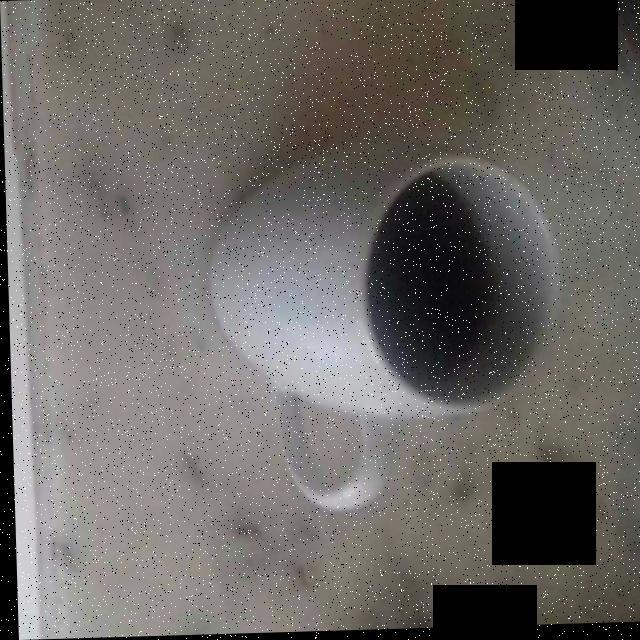drink: (363, 175, 502, 401)
